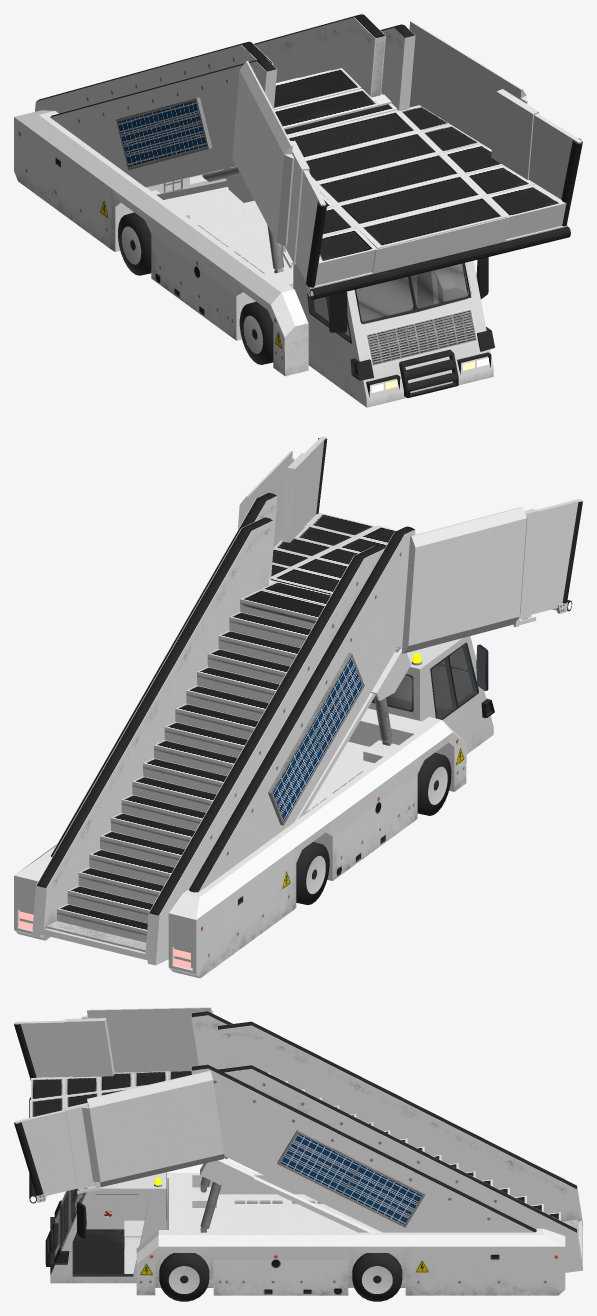
File: ASO_Boarding_Stairs_LOD03.gltf
3 renders of one model, top to bottom at view 1: azimuth 30°, elevation 25°; view 2: azimuth 150°, elevation 25°; view 3: azimuth 270°, elevation 25°, orthographic. The views are drawn at different scales.
Parts seen in each view (by area): view 1: Ramp_End, ASO_Boarding_Stairs, Ramp_Start, W1_R, W2; view 2: Ramp_Start, Ramp_End, ASO_Boarding_Stairs, W1_R, W2; view 3: Ramp_End, ASO_Boarding_Stairs, Ramp_Start, W2, W1_L, Piston2.
Boxes of the visible parts, x1,y1,x2,y2 form: Ramp_End: [50, 21, 582, 299]; ASO_Boarding_Stairs: [14, 110, 494, 407]; Ramp_Start: [35, 14, 391, 202]; W1_R: [239, 301, 273, 364]; W2: [118, 212, 151, 275]; Ramp_Start: [32, 517, 410, 965]; Ramp_End: [50, 436, 582, 892]; ASO_Boarding_Stairs: [14, 636, 494, 978]; W1_R: [417, 752, 451, 815]; W2: [296, 842, 329, 904]; Ramp_End: [14, 1007, 536, 1232]; ASO_Boarding_Stairs: [45, 1172, 565, 1295]; Ramp_Start: [200, 1021, 582, 1272]; W2: [352, 1253, 402, 1301]; W1_L: [159, 1253, 209, 1301]; Piston2: [200, 1177, 221, 1228].
Size of the model in its own units: 3.76 by 3.94 by 8.9.
